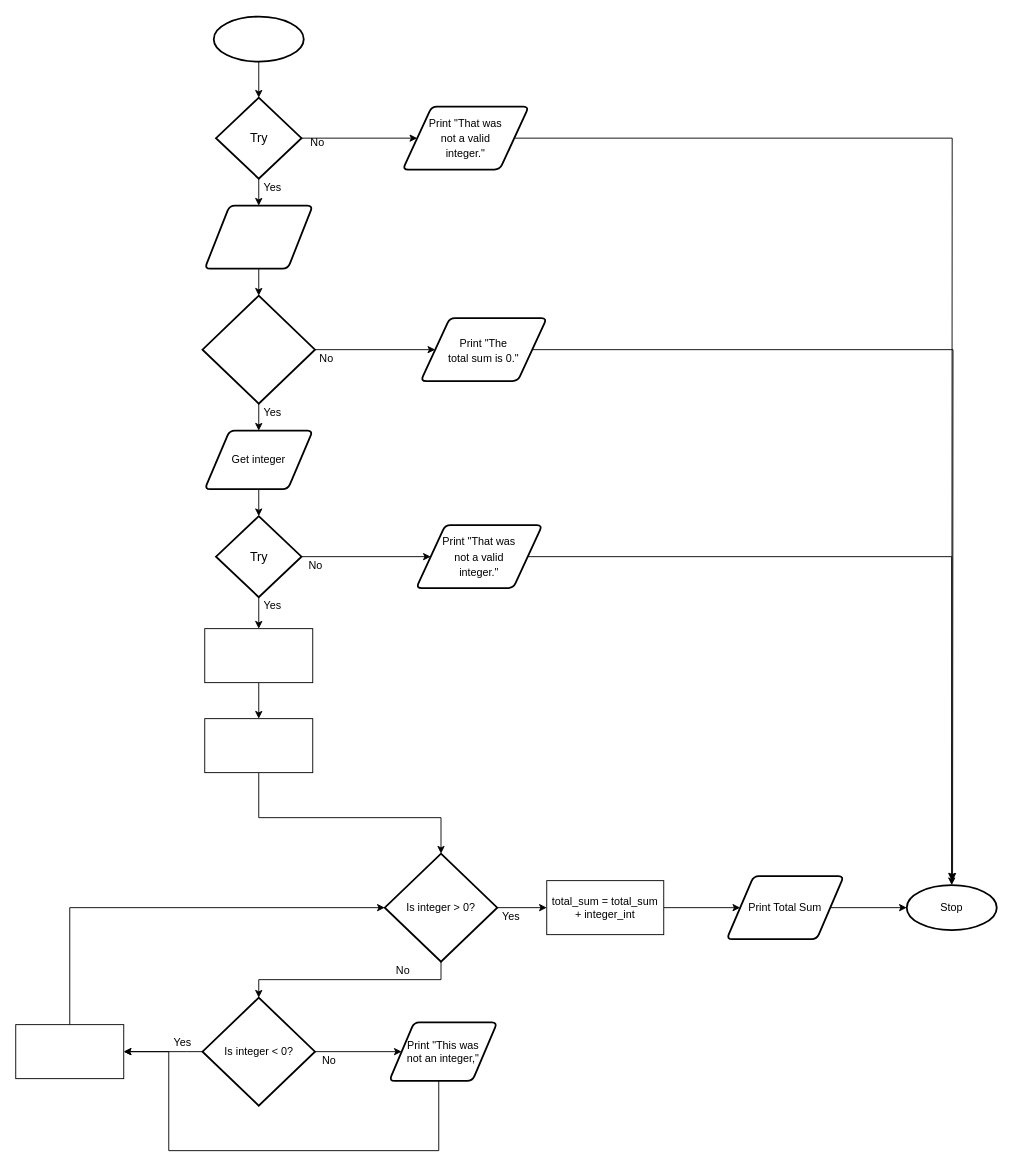
This 1013x1174 diagram has some shape labels left out. Each missing label, with the box of its shape:
Continue: (15, 1024, 124, 1079)
Convert to int: (204, 628, 313, 683)
counter = counter + 1: (204, 718, 313, 773)
Get amount of numbers to input: (203, 204, 313, 269)
Start: (212, 15, 304, 62)
While >= counter: (201, 294, 315, 404)
